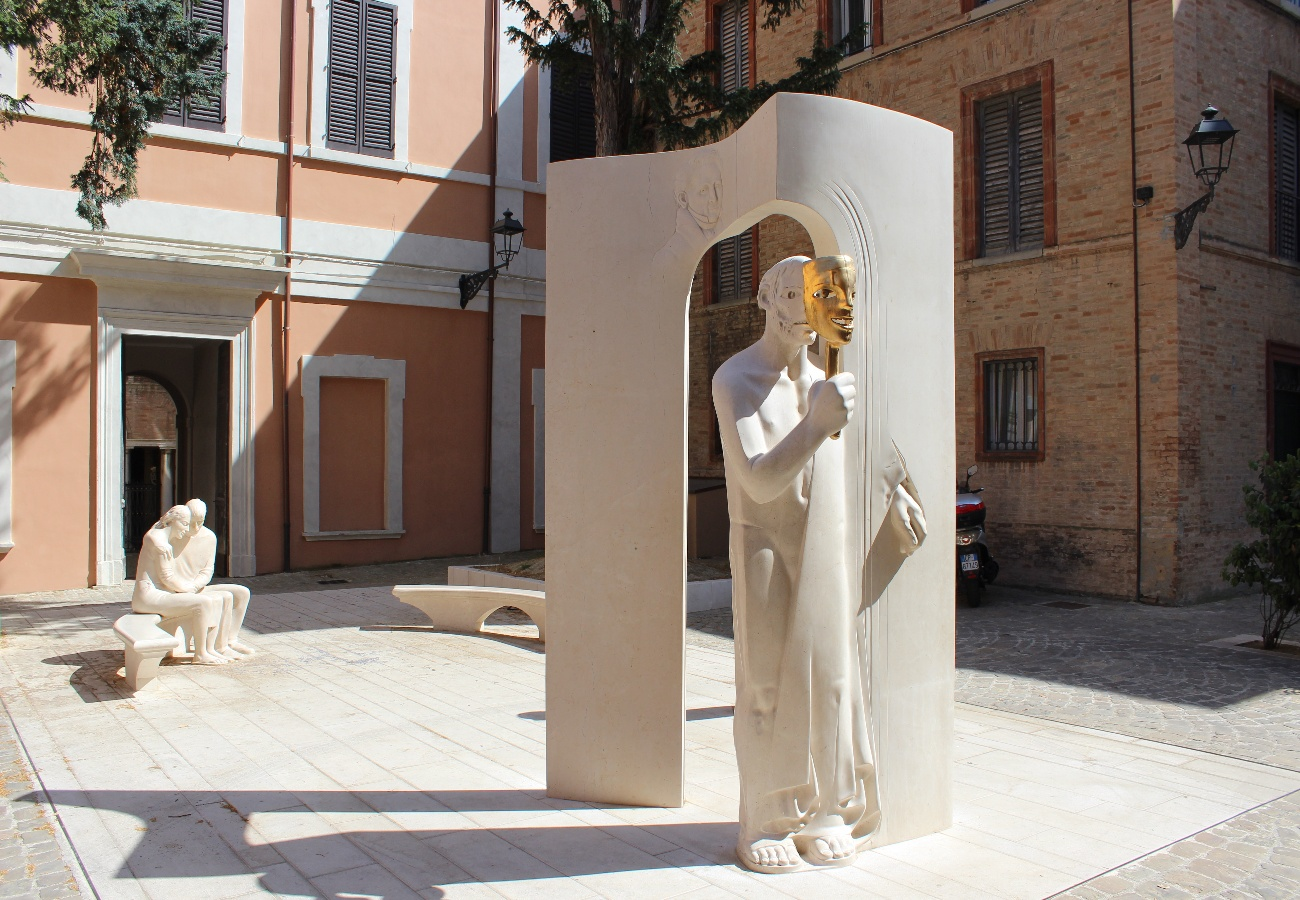Scultura della Memoria: (709, 256, 928, 880)
